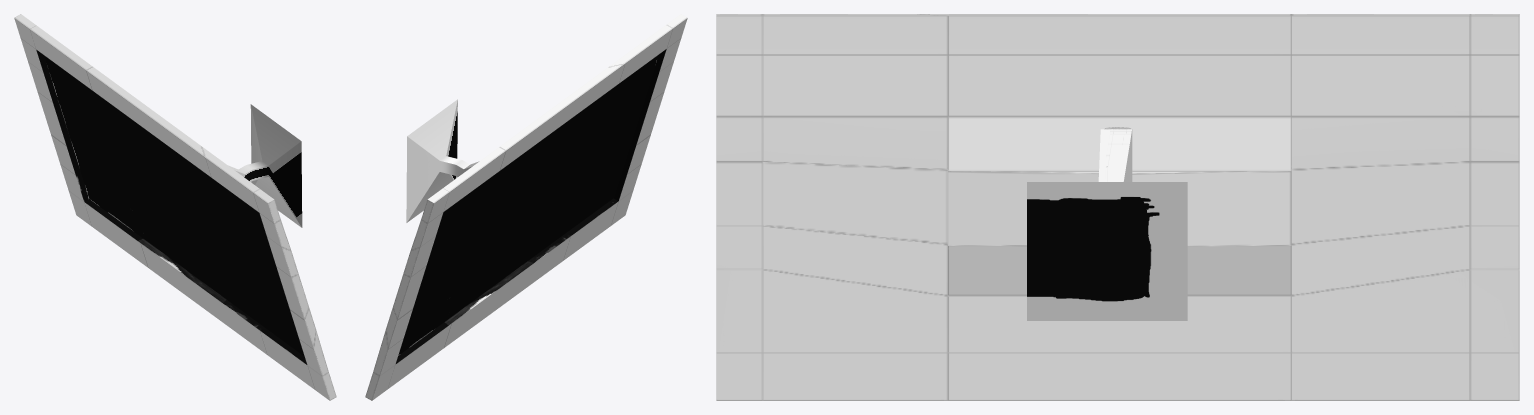
Rendered from Flat Screen.fbx.
3 views of the same model, side by side, from view 1: azimuth 30°, elevation 25°; view 2: azimuth 150°, elevation 25°; view 3: azimuth 270°, elevation 25° (orthographic). The views are drawn at different scales.
Parts seen in each view (by area): view 1: pCube2, pCube3; view 2: pCube2, pCube3; view 3: pCube2, pCube3.
Boxes of the visible parts, <box> form: pCube2: <box>14,14,336,400</box>; pCube3: <box>228,104,302,227</box>; pCube2: <box>365,14,687,400</box>; pCube3: <box>406,99,479,222</box>; pCube2: <box>716,14,1519,400</box>; pCube3: <box>1027,129,1187,320</box>.
Bounding box in the file's own units: 1.09 × 1.69 × 3.62.
1 material, 1 textured.
